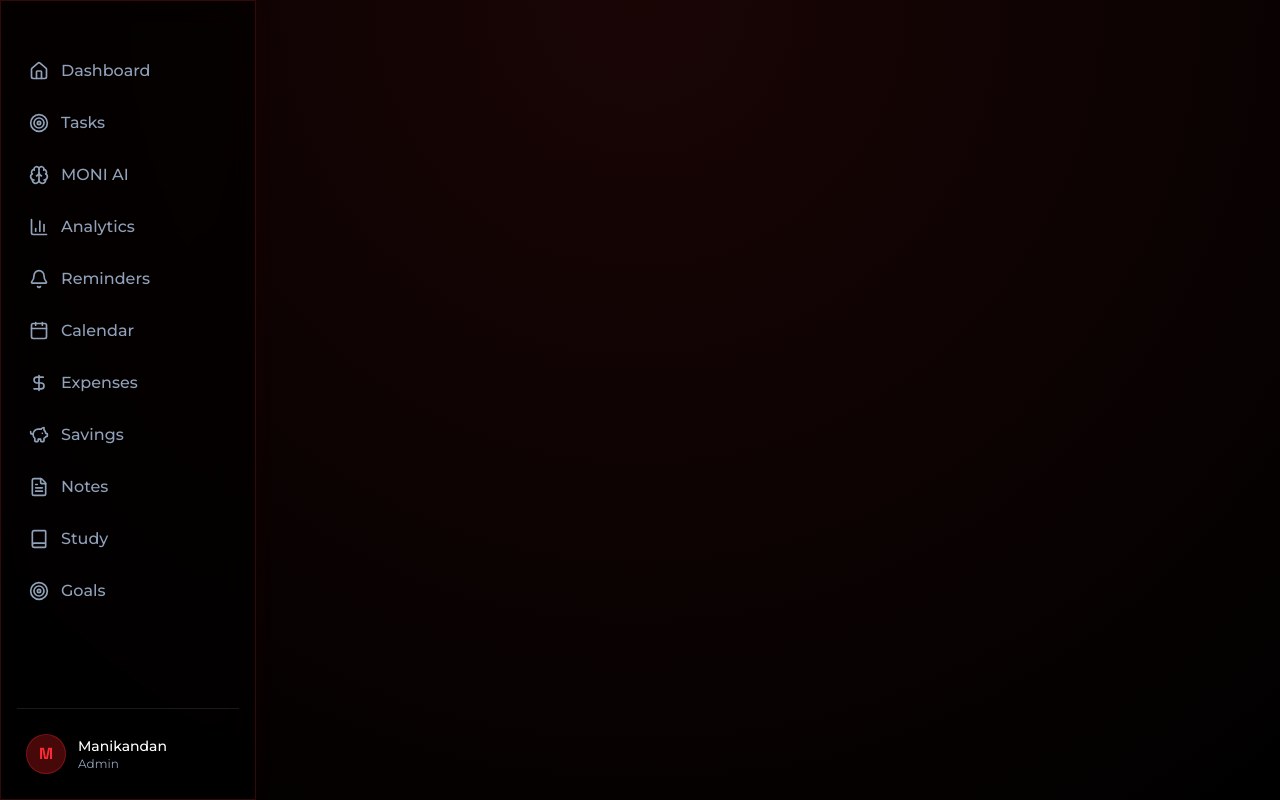
Sidebar Component › opens profile popover on click and shows logout button
Expected: the text "Log Out Terminal" is not shown
Click the element showing "M Manikandan Admin" at (96, 754), box 26,734 -> 167,774
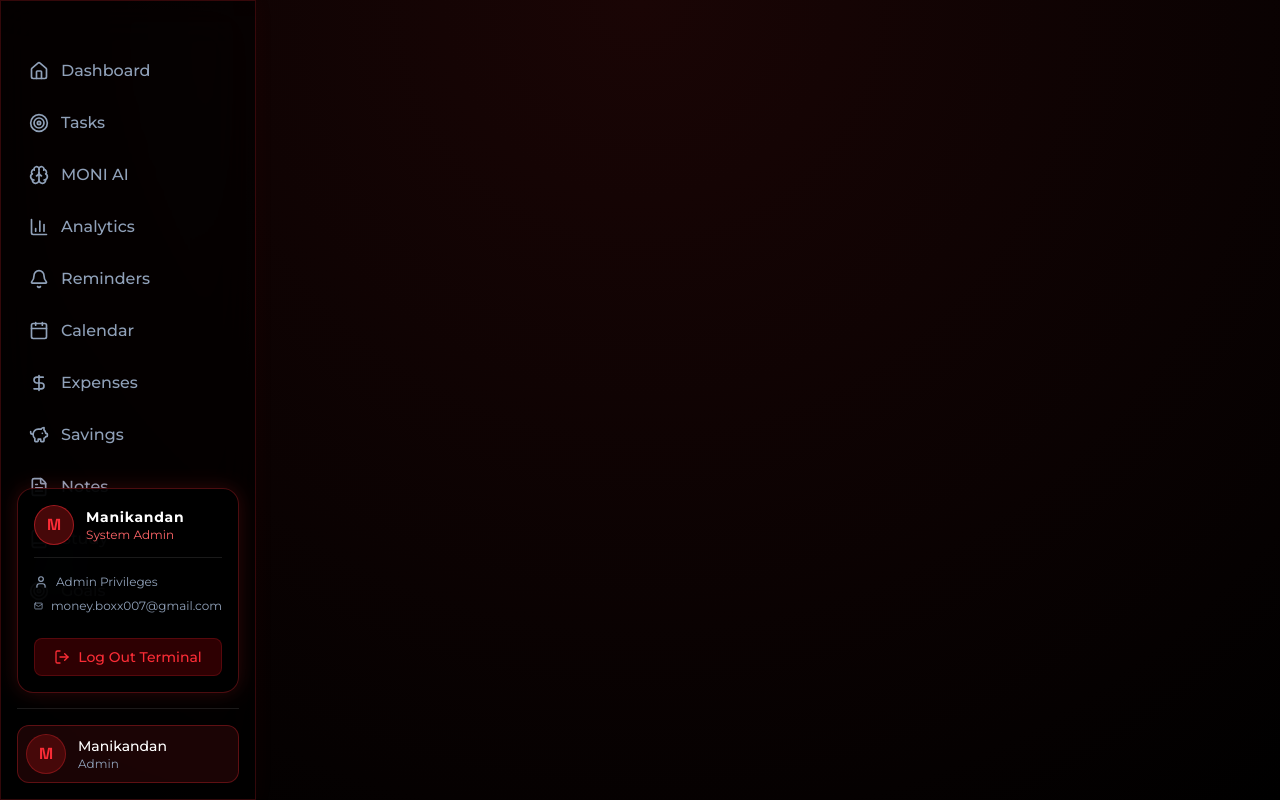
Expected: the text "Log Out Terminal" is shown, 78,647 -> 202,667
Expected: the text "System Admin" is shown, 86,527 -> 184,543
